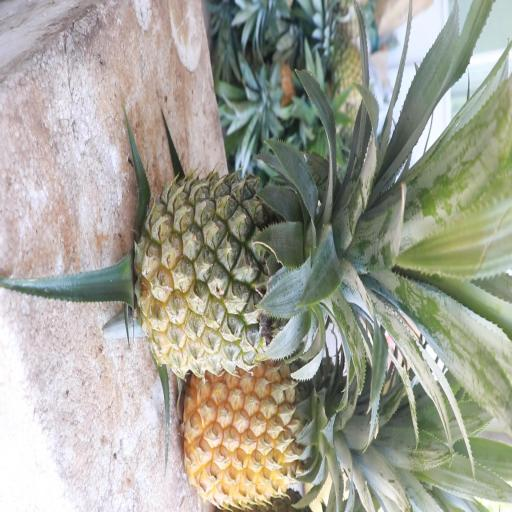------------------------------: (139, 175, 329, 367)
Pineapple - v8 v1: (183, 363, 338, 503)
